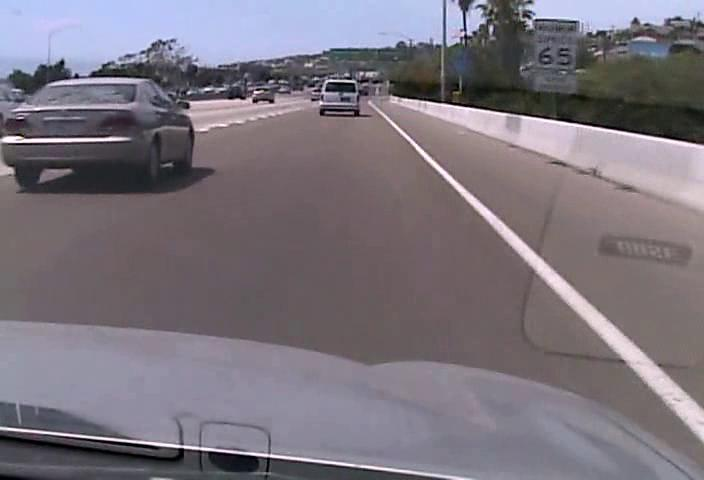speedLimit65: (531, 17, 580, 71)
